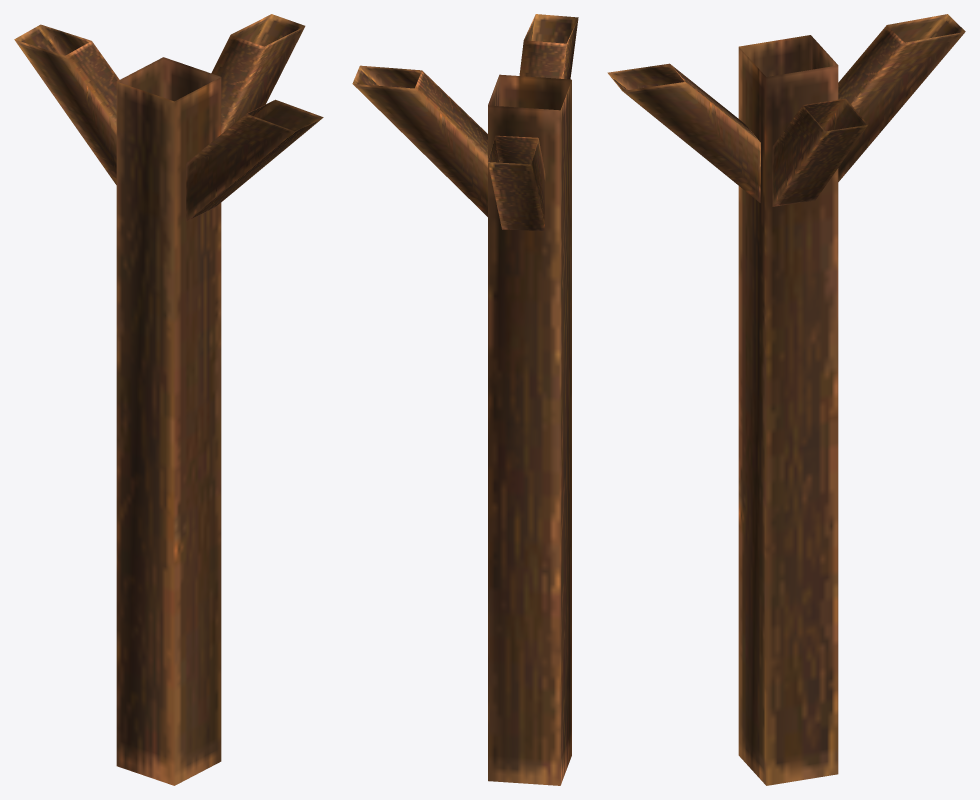
The model's file is SWORDLIGHT20_JAILPLATSUPPORT60.fbx.
The picture shows the model from 3 angles, left to right: view 1: azimuth 30°, elevation 25°; view 2: azimuth 150°, elevation 25°; view 3: azimuth 270°, elevation 25°; orthographic projection. The views are drawn at different scales.
Visible parts, largest first — view 1: SWORDLIGHT20_JAILPLATSUPPORT60; view 2: SWORDLIGHT20_JAILPLATSUPPORT60; view 3: SWORDLIGHT20_JAILPLATSUPPORT60.
Boxes of the visible parts, x1,y1,x2,y2 form: SWORDLIGHT20_JAILPLATSUPPORT60: (14,14,323,785); SWORDLIGHT20_JAILPLATSUPPORT60: (352,14,578,785); SWORDLIGHT20_JAILPLATSUPPORT60: (607,14,965,785).
Size of the model in its own units: 14388 by 40659 by 18567.
Materials: 1 (1 with a texture image).
